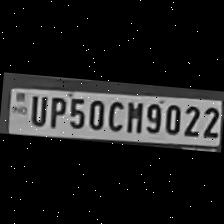0: (160, 100, 184, 134), (84, 95, 106, 130)
2: (197, 102, 220, 139), (180, 101, 202, 137)
5: (64, 93, 88, 129)
9: (142, 99, 164, 134)
C: (104, 96, 126, 132)
M: (121, 98, 144, 134)
P: (43, 92, 66, 128)
U: (25, 90, 48, 127)
